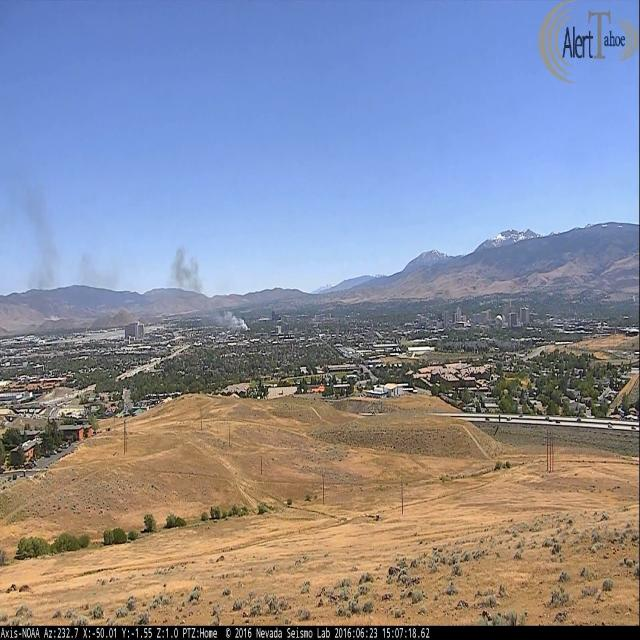smoke: (168, 239, 252, 329), (20, 204, 52, 312)
